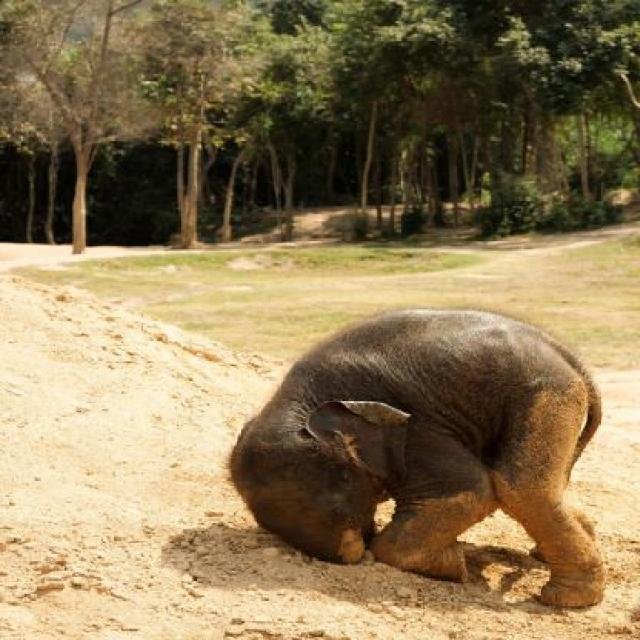Elephant: (214, 306, 620, 614)
